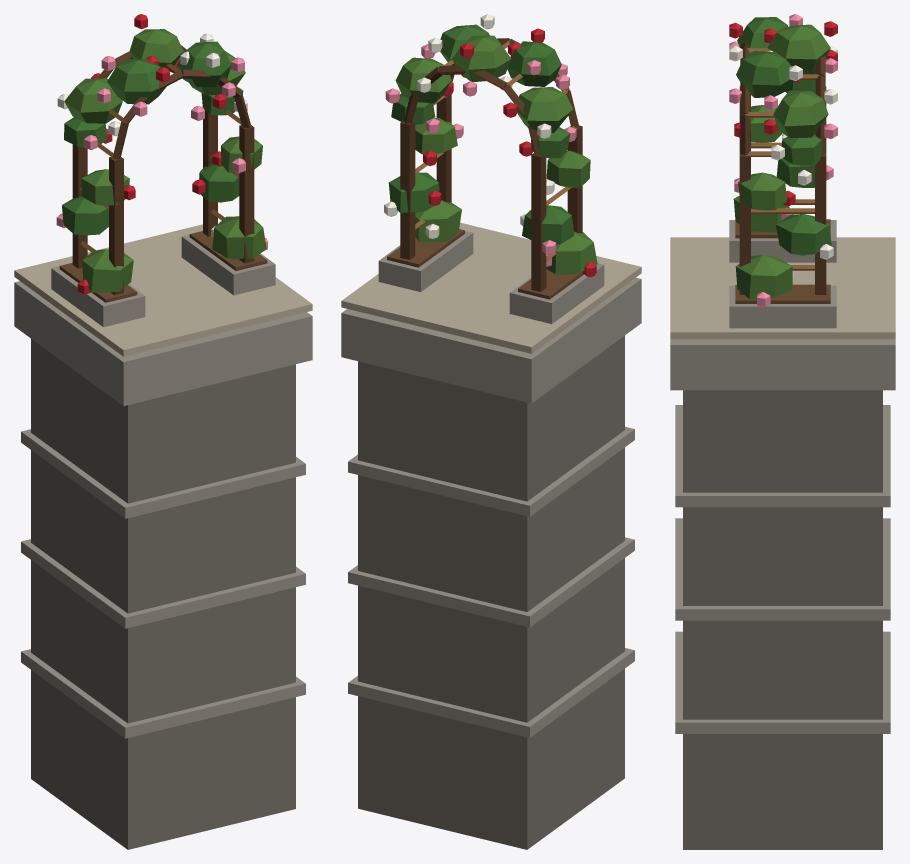
The model's file is decor_rose_arch.glb.
The picture shows the model from 3 angles, left to right: view 1: azimuth 30°, elevation 25°; view 2: azimuth 150°, elevation 25°; view 3: azimuth 270°, elevation 25°; orthographic projection. The views are drawn at different scales.
Parts seen in each view (by area): view 1: decor_rose_arch; view 2: decor_rose_arch; view 3: decor_rose_arch.
Part boxes in pixels (x1,y1,x2,y2): decor_rose_arch: (14,14,312,849); decor_rose_arch: (341,14,641,849); decor_rose_arch: (670,14,895,849).
Bounding box in the file's own units: 1.8 × 6.94 × 1.8.
